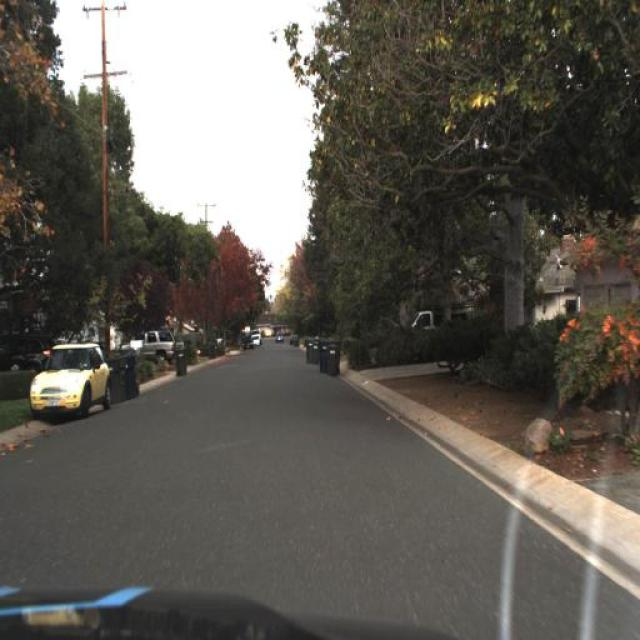car: (25, 329, 116, 432), (130, 322, 188, 366), (242, 337, 254, 351)
